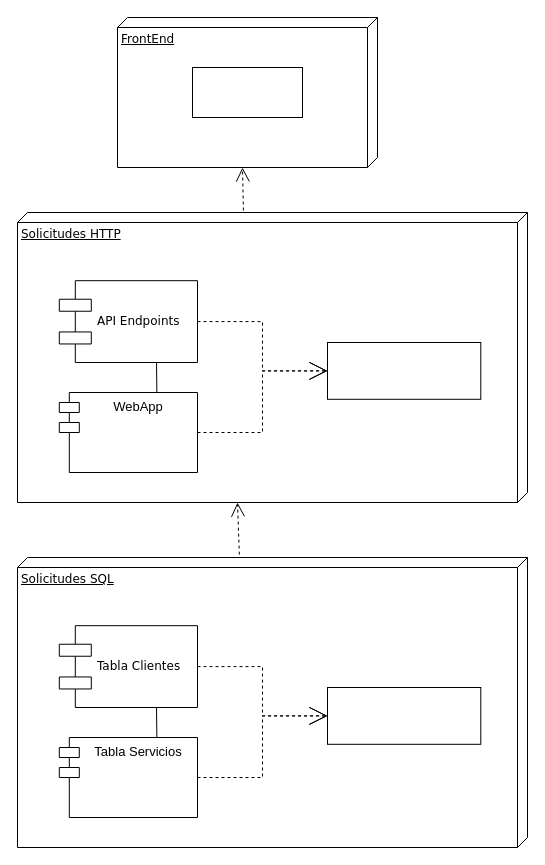
The diagram is 545 pixels wide and 865 high, and some of its shapes have lost their labels. The shapes that lost their labels are listed below. From the top down, each one's centre as x and y in pixels, then its label:
point 247,92: Index.html
point 403,370: Flask
point 403,715: SQLite
